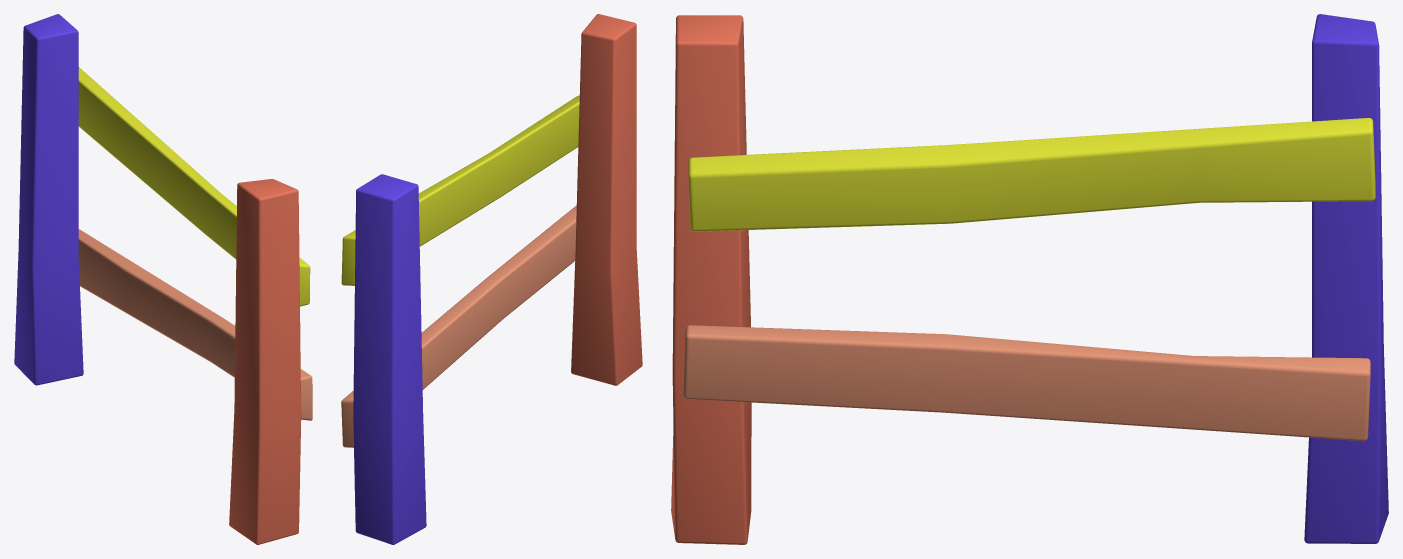
Rendered from CottageHouseFairy5FENCE.fbx.
The picture shows the model from 3 angles, left to right: view 1: azimuth 30°, elevation 25°; view 2: azimuth 150°, elevation 25°; view 3: azimuth 270°, elevation 25°; orthographic projection. The views are drawn at different scales.
Visible parts, largest first — view 1: Cube.008; view 2: Cube.008; view 3: Cube.008.
Part boxes in pixels (<box>): Cube.008: <box>14,14,312,544</box>; Cube.008: <box>341,14,642,544</box>; Cube.008: <box>671,14,1388,544</box>.
Size of the model in its own units: 72.42 by 362 by 469.
